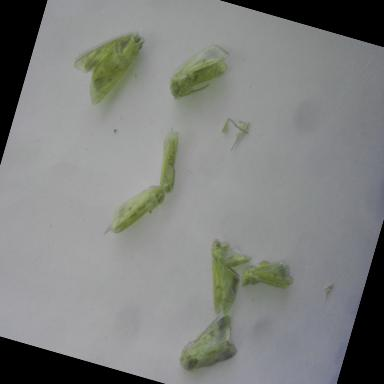abw: (62, 14, 150, 118), (173, 300, 251, 384), (191, 231, 258, 324), (162, 33, 236, 115), (100, 170, 172, 254), (234, 246, 302, 307), (143, 124, 194, 202)
